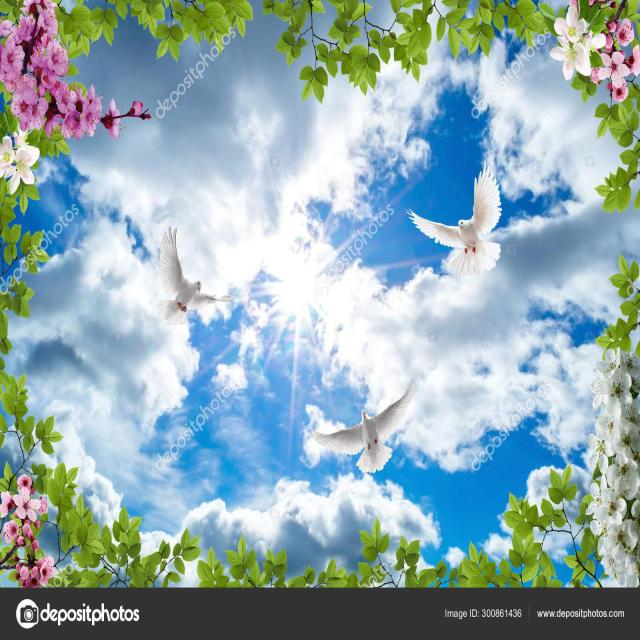bird: (404, 157, 505, 277), (309, 376, 418, 477), (154, 226, 238, 327)
